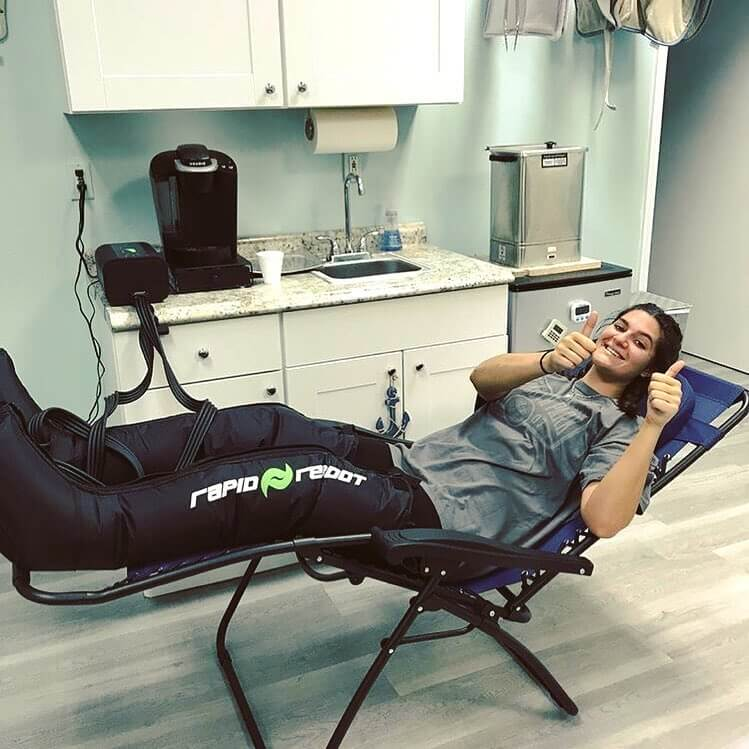cabinet: (46, 1, 472, 110)
counter: (95, 220, 507, 449)
countertop: (86, 241, 513, 332)
dispenser: (299, 105, 402, 154)
faucet: (331, 169, 372, 257)
handle: (193, 345, 212, 365), (263, 384, 280, 399), (410, 361, 427, 375), (385, 368, 402, 382), (296, 80, 308, 99), (264, 81, 276, 100)
patient: (1, 301, 686, 571)
sequential_compression: (1, 240, 420, 575)
sink: (300, 257, 430, 286)
